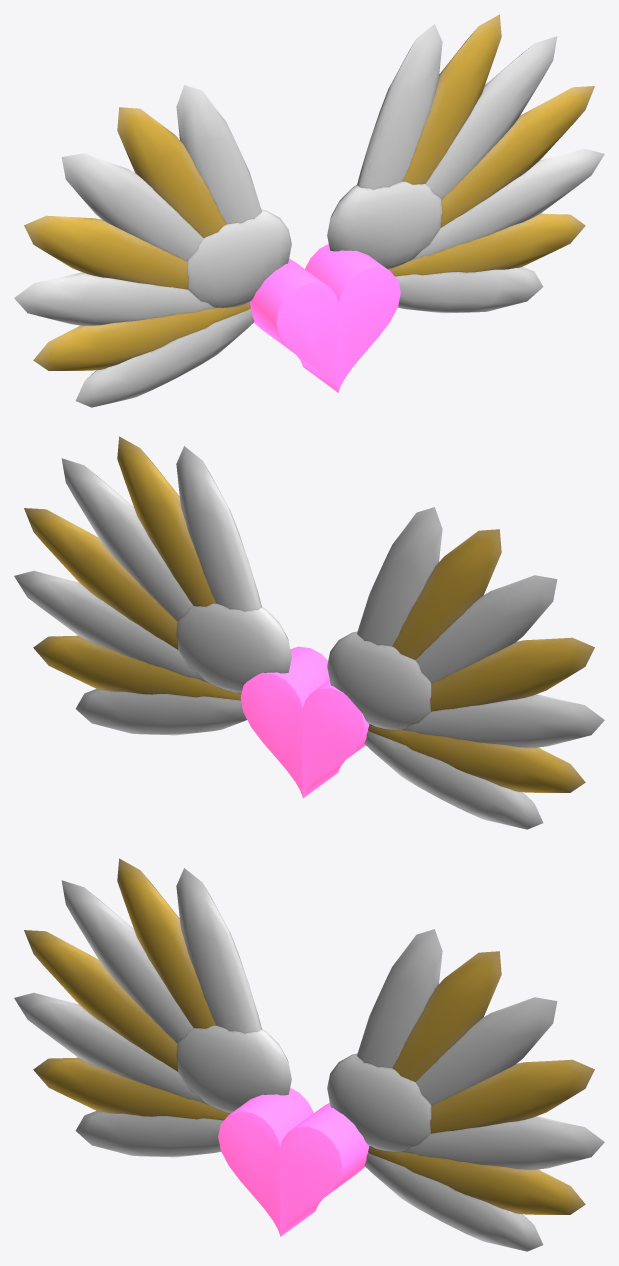
The model's file is cb_powerup_wings.glb.
3 views of the same model, one above another, from view 1: azimuth 30°, elevation 25°; view 2: azimuth 150°, elevation 25°; view 3: azimuth 330°, elevation 25° (orthographic).
Visible parts, largest first — view 1: cb_powerup_wings; view 2: cb_powerup_wings; view 3: cb_powerup_wings.
Part boxes in pixels (<box>): cb_powerup_wings: <box>14,14,604,407</box>; cb_powerup_wings: <box>14,436,604,829</box>; cb_powerup_wings: <box>14,858,604,1251</box>.
Bounding box in the file's own units: 1.52 × 0.7784 × 0.1723.
3 materials, 3 textured.
